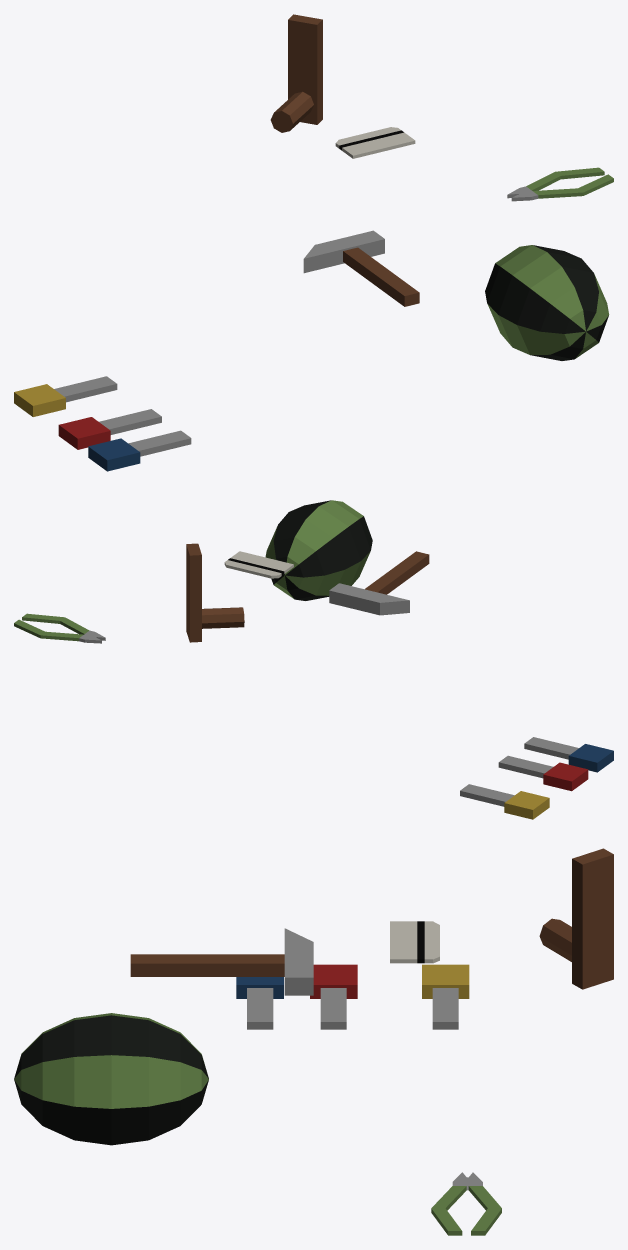
Rendered from items.glb.
3 renders of one model, top to bottom at view 1: azimuth 30°, elevation 25°; view 2: azimuth 150°, elevation 25°; view 3: azimuth 270°, elevation 25°, orthographic. The views are drawn at different scales.
Visible parts, largest first — view 1: watermelon, handle, hammer, padlock_key, safe_key, master_key, cut, card; view 2: watermelon, hammer, handle, master_key, safe_key, padlock_key, cut, card; view 3: watermelon, handle, hammer, safe_key, master_key, card, cut, padlock_key.
Part boxes in pixels (x1,y1,x2,y2): watermelon: (485, 245, 609, 360); handle: (270, 14, 322, 132); hammer: (303, 230, 419, 306); padlock_key: (88, 430, 191, 471); safe_key: (14, 376, 117, 416); master_key: (58, 409, 161, 449); cut: (507, 167, 613, 201); card: (335, 127, 415, 158); watermelon: (265, 500, 372, 600); hammer: (329, 551, 429, 615); handle: (186, 543, 244, 642); master_key: (498, 755, 588, 791); safe_key: (460, 784, 549, 819); padlock_key: (524, 737, 613, 772); cut: (14, 613, 105, 643); card: (224, 551, 293, 578); watermelon: (14, 1013, 208, 1145); handle: (539, 848, 613, 989); hammer: (130, 928, 313, 995); safe_key: (422, 964, 469, 1029); master_key: (310, 964, 357, 1029); card: (390, 921, 439, 963); cut: (431, 1172, 501, 1235); padlock_key: (236, 977, 283, 1029).
Size of the model in its own units: 2.75 by 1.17 by 1.93.
